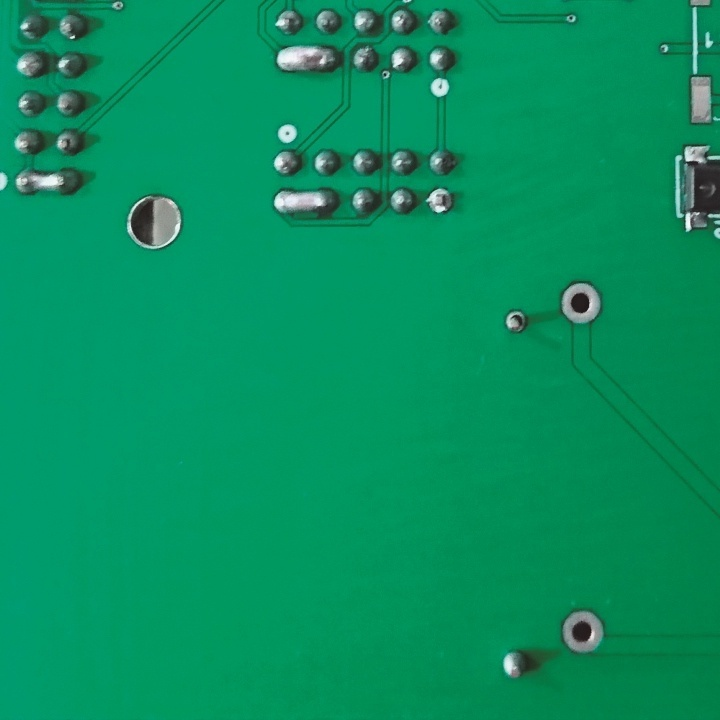F: (556, 278, 604, 328), (558, 608, 607, 656), (424, 185, 454, 215), (501, 309, 528, 334)
P: (12, 166, 85, 199), (270, 43, 341, 76), (270, 186, 341, 219)
